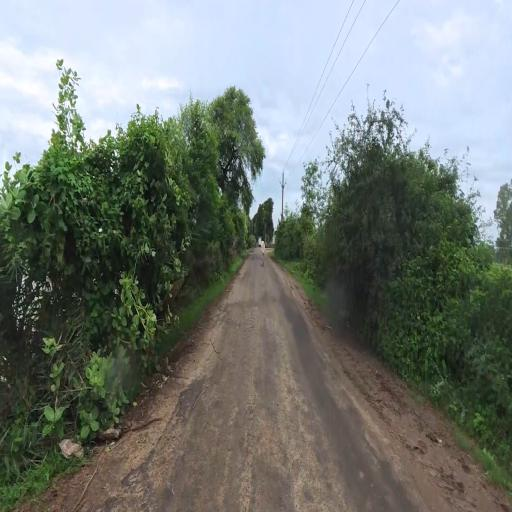edge_damage: (122, 376, 209, 512)
